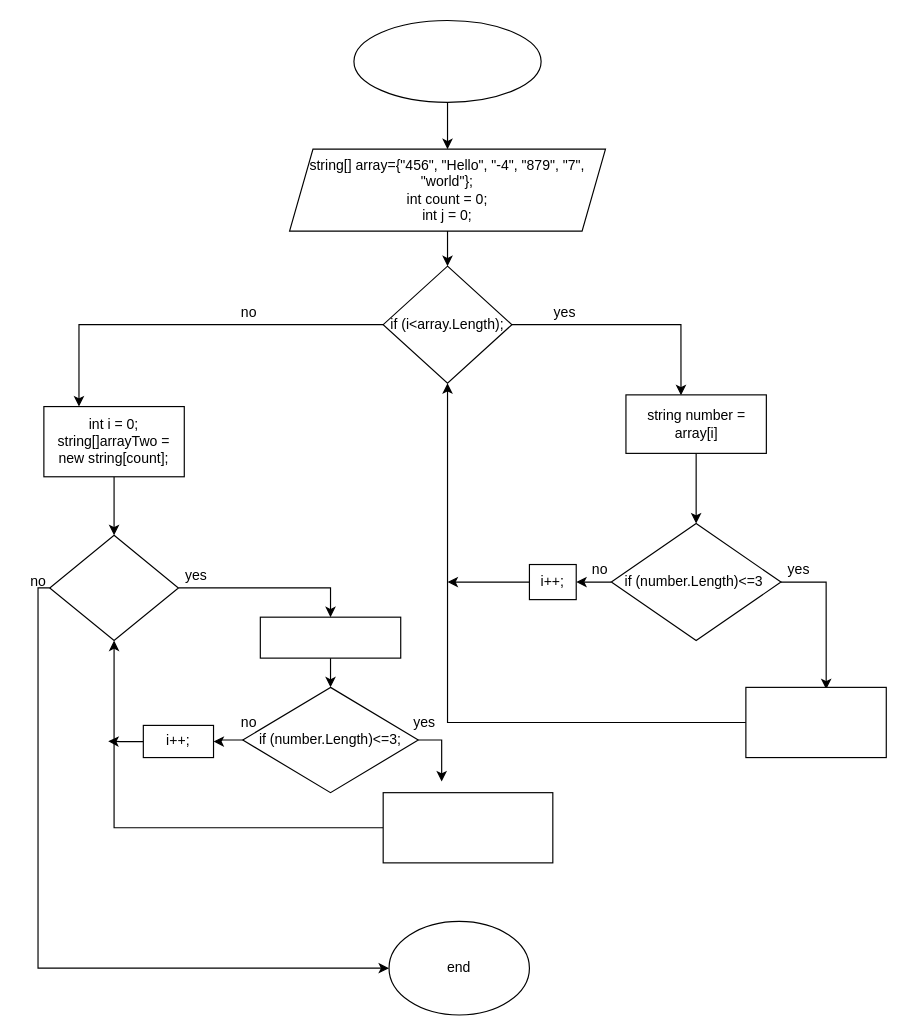
Image size: 907x1035. Some labels were removed from this diagram. Each missing label, with the box of its shape:
arrayTwo[i]=number; Console.Write(arrayTwo[i]) j++; j++;: (382, 792, 553, 863)
count++; i++;: (745, 686, 886, 758)
if (i<array.Lenght);: (49, 534, 178, 641)
start: (353, 19, 541, 102)
string number=array[i};: (259, 616, 401, 658)
